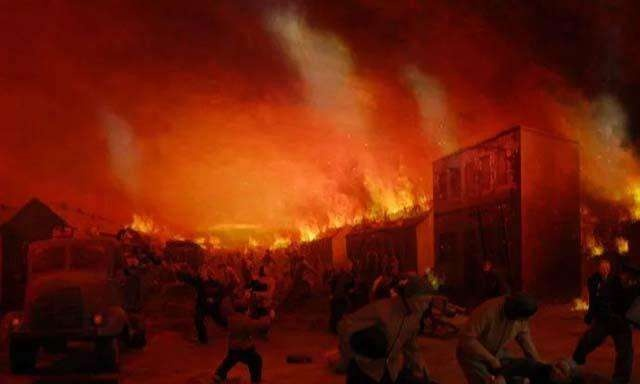fire: (128, 179, 432, 250)
